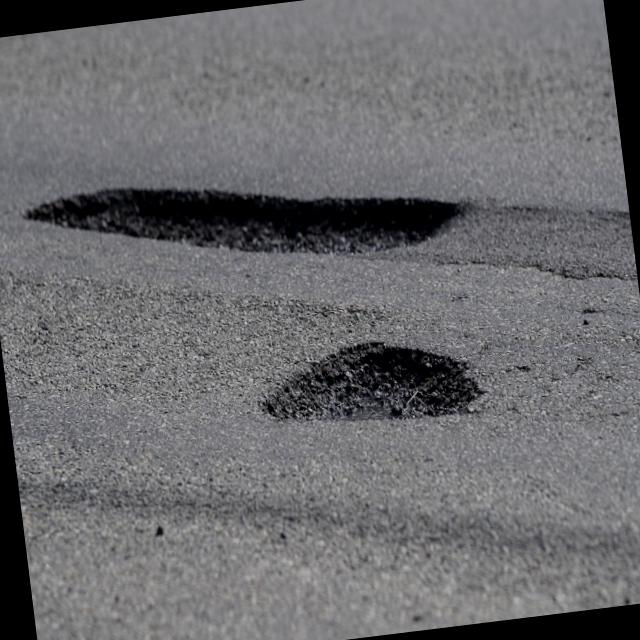bad-road: (22, 143, 464, 295), (256, 325, 482, 441)
